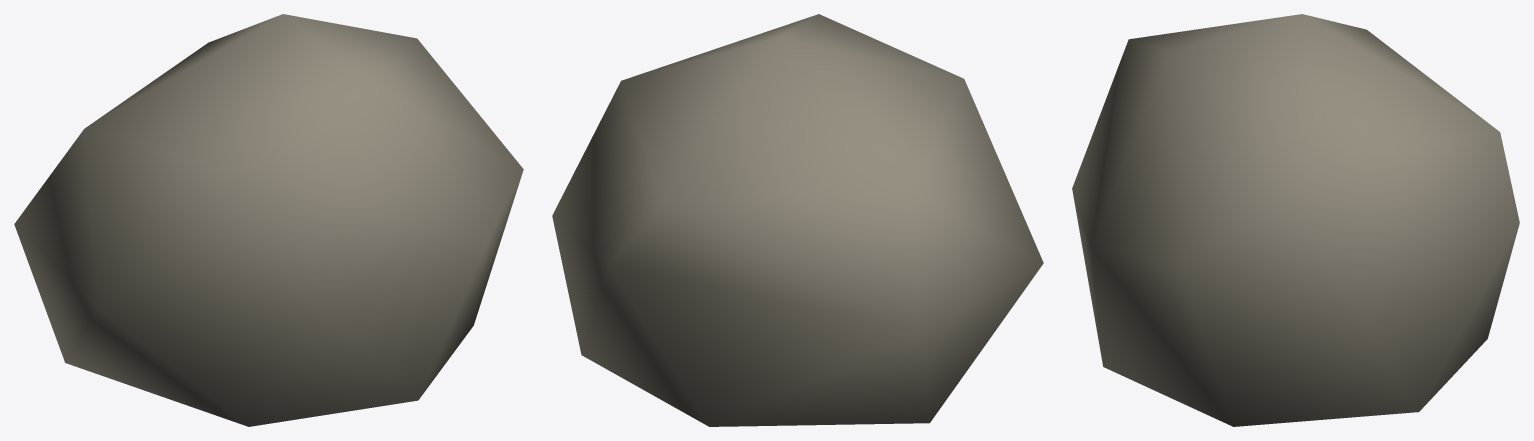
Rendered from cave-plug-low.glb.
3 renders of one model, left to right at view 1: azimuth 30°, elevation 25°; view 2: azimuth 150°, elevation 25°; view 3: azimuth 270°, elevation 25°, orthographic. The views are drawn at different scales.
Parts seen in each view (by area): view 1: 0_plug; view 2: 0_plug; view 3: 0_plug.
Part boxes in pixels (x1,y1,x2,y2): 0_plug: (14,14,523,426); 0_plug: (552,14,1043,426); 0_plug: (1072,14,1519,426).
Bounding box in the file's own units: 2.03 × 1.48 × 1.79.
